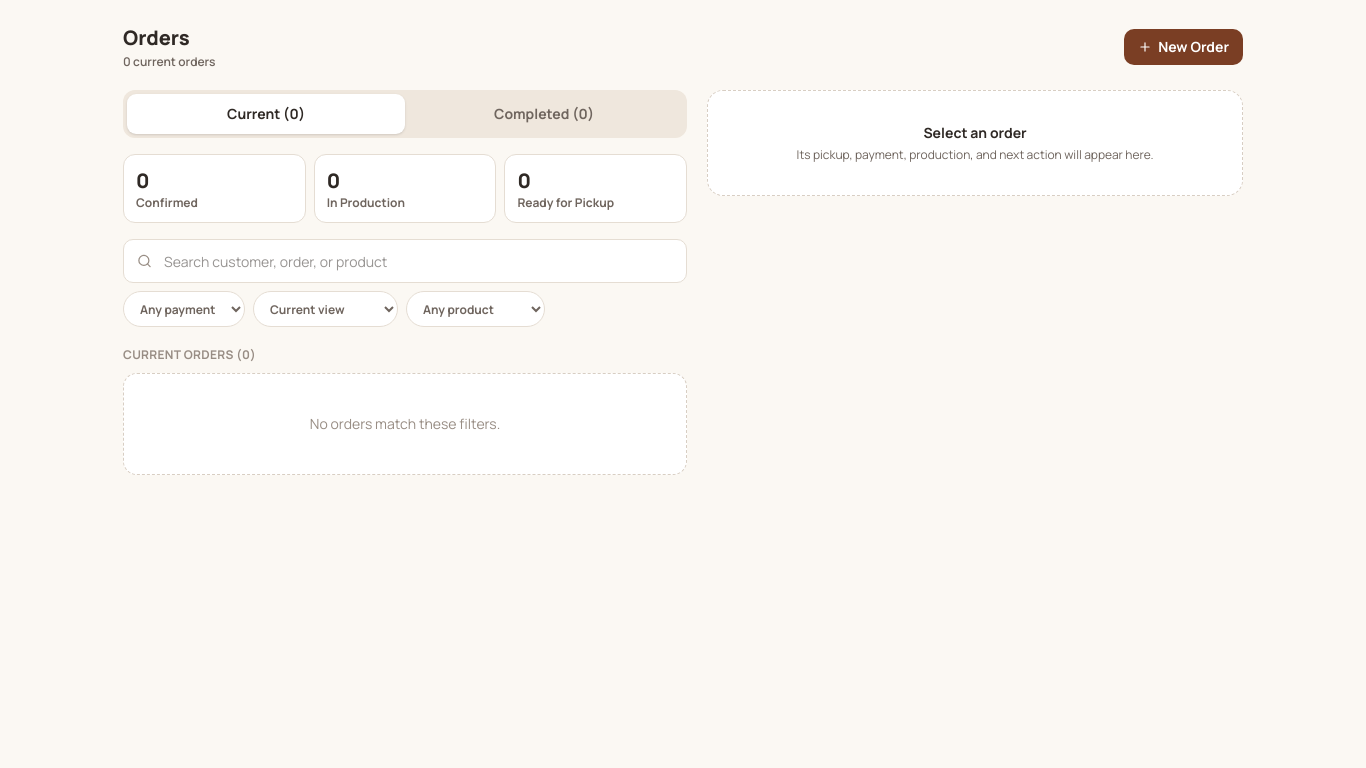
Scenario: OrdersScreen workflow queue › does not offer a lifecycle action for draft orders
Select "Draft orders" in the dropdown named "Record status": [326, 309] box [253,291,398,327]
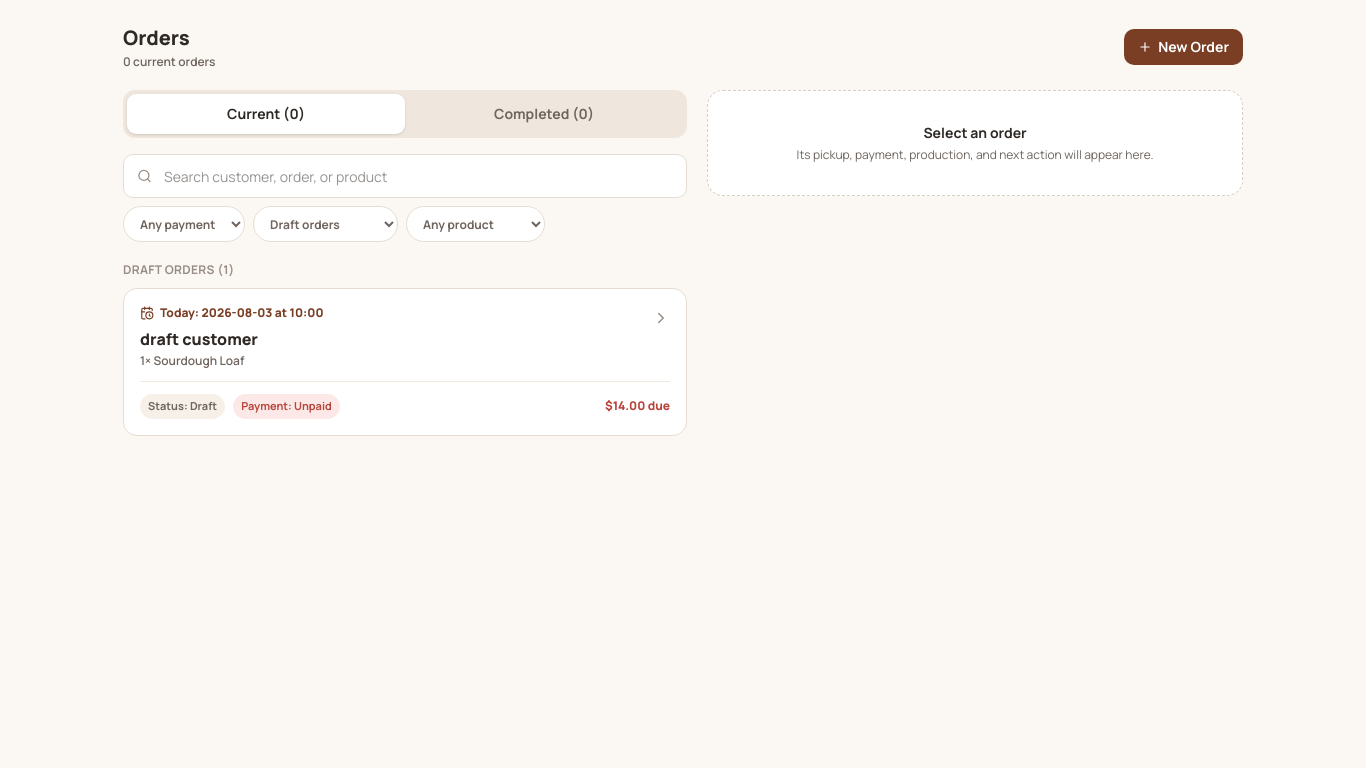
Click the button with aria-label "Open order order-draft for draft customer": [242, 312] box [124,289,686,434]
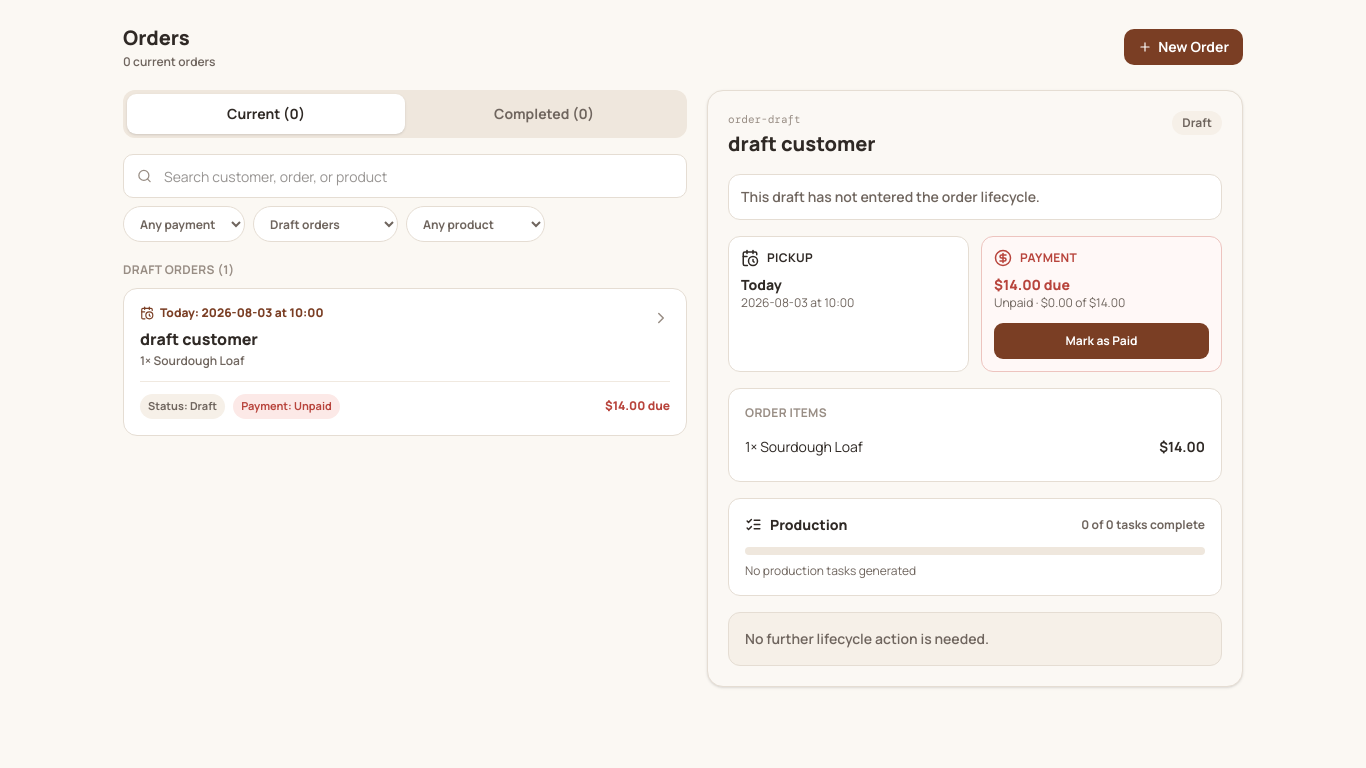
Expected: the text named "Order action" reads "No further lifecycle action is needed.", [745,628,989,648]
